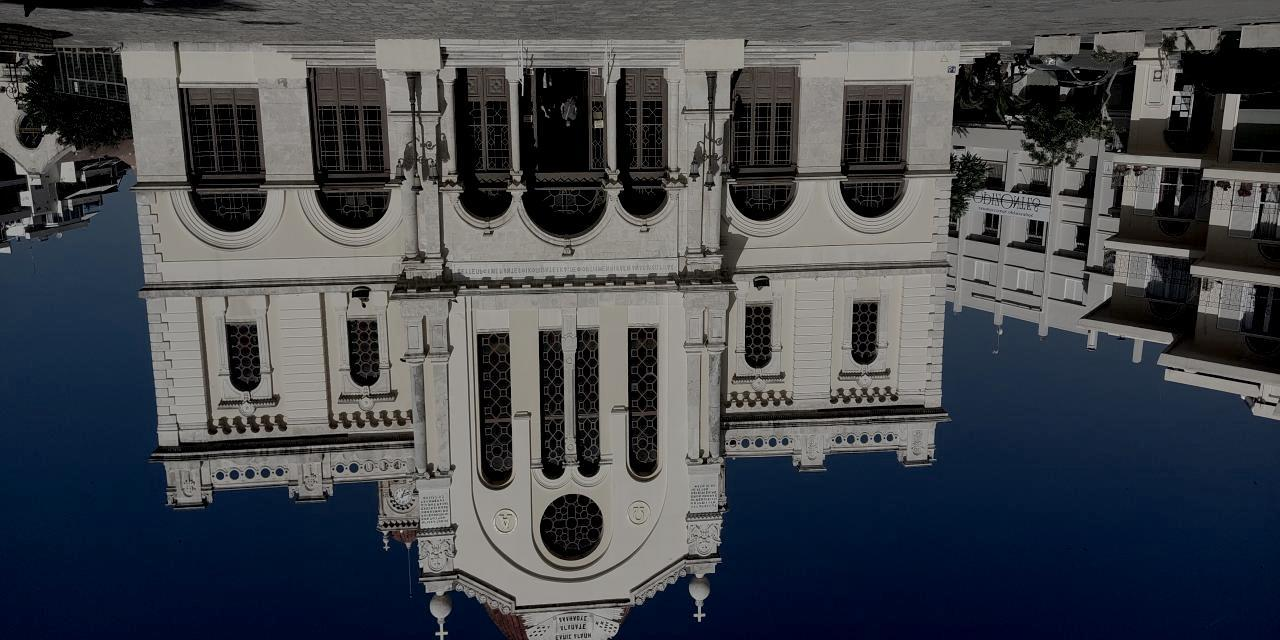Agios Minas: (120, 38, 963, 640)
